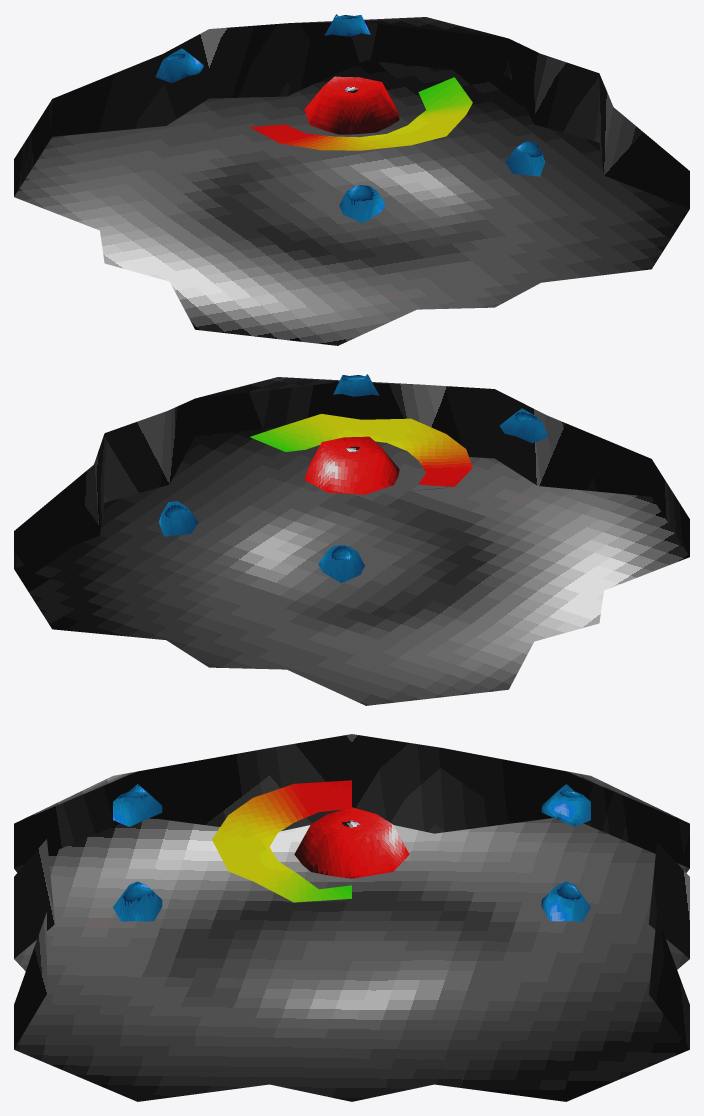
Rendered from gun.glb.
3 views of the same model, one above another, from view 1: azimuth 30°, elevation 25°; view 2: azimuth 150°, elevation 25°; view 3: azimuth 270°, elevation 25° (orthographic). The views are drawn at different scales.
Parts seen in each view (by area): view 1: m2, m0ClampSClampT, m1, m3; view 2: m2, m0ClampSClampT, m1, m3; view 3: m2, m0ClampSClampT, m1, m3.
Part boxes in pixels (x1=…): m2: x1=14, y1=17, x2=689, y2=345; m0ClampSClampT: x1=250, y1=77, x2=472, y2=150; m1: x1=304, y1=76, x2=399, y2=134; m3: x1=155, y1=14, x2=544, y2=223; m2: x1=14, y1=377, x2=689, y2=705; m0ClampSClampT: x1=250, y1=414, x2=472, y2=486; m1: x1=304, y1=436, x2=399, y2=494; m3: x1=159, y1=374, x2=548, y2=583; m2: x1=14, y1=734, x2=689, y2=1101; m0ClampSClampT: x1=212, y1=780, x2=351, y2=902; m1: x1=294, y1=807, x2=409, y2=878; m3: x1=113, y1=784, x2=590, y2=921.
Size of the model in its own units: 82 by 18 by 82.
4 materials, 4 textured.
